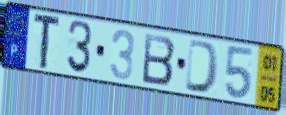3: (66, 19, 94, 76), (109, 28, 136, 81)
5: (224, 44, 256, 102)
B: (141, 31, 177, 87)
D: (183, 38, 221, 97)
T: (32, 13, 63, 71)
